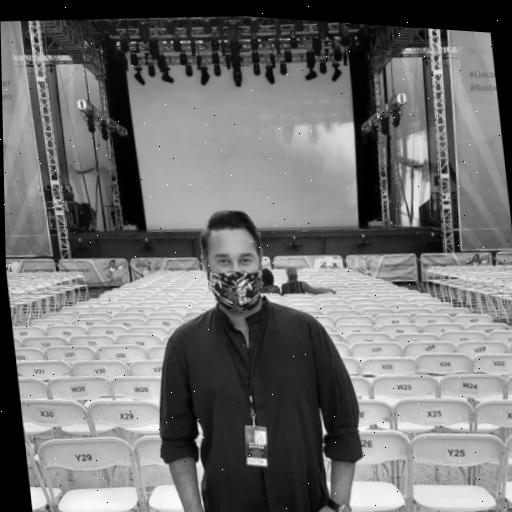mask: (205, 232, 266, 314)
